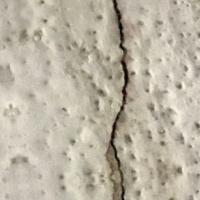crack: (93, 0, 149, 199)
